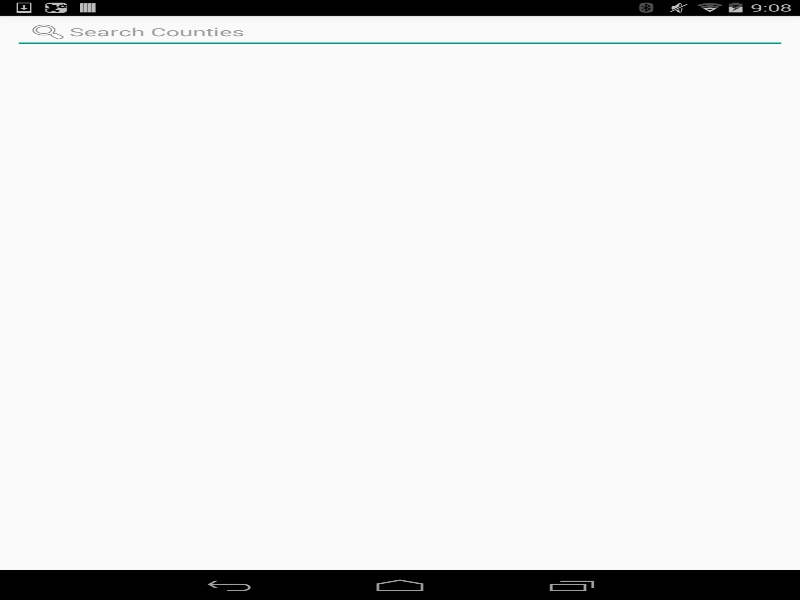Input: (13, 15, 786, 48)
